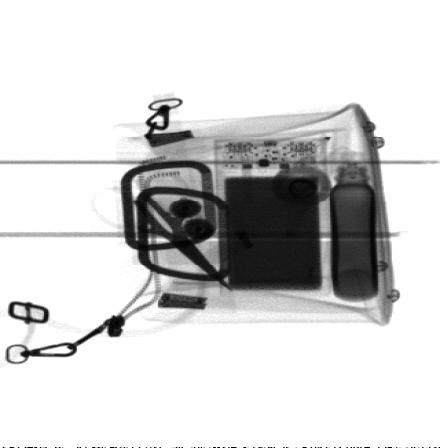Powerbank: (210, 134, 331, 298)
Scissors: (89, 169, 238, 294)
